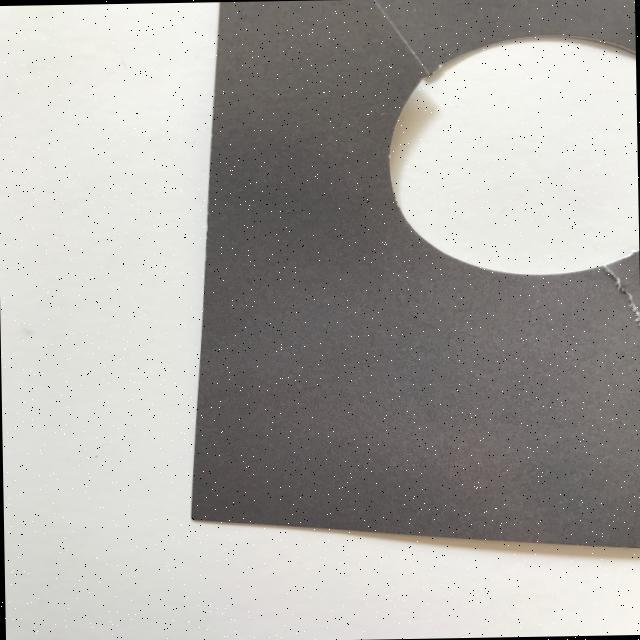paper: (181, 0, 640, 556), (385, 32, 638, 278)
